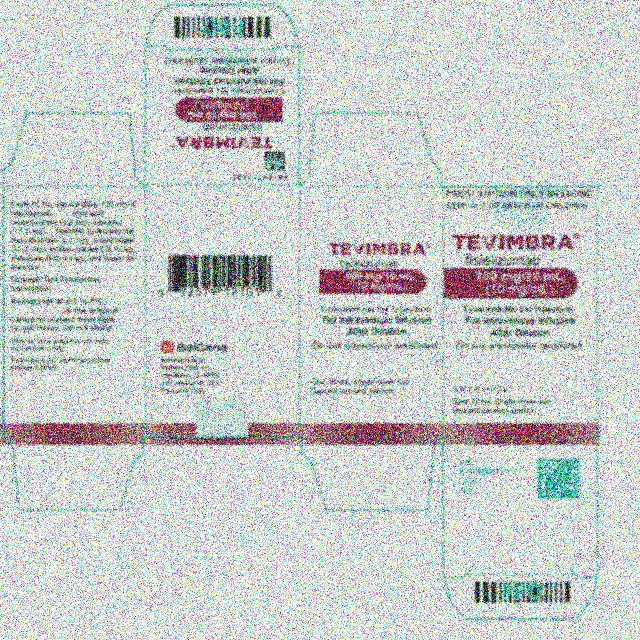Artwork: (0, 0, 640, 640)
Back_Panel: (146, 185, 300, 437)
Bottom_Part: (444, 437, 596, 578)
Extra_Areas: (2, 109, 144, 186), (300, 436, 443, 512), (4, 438, 145, 514), (302, 111, 443, 186), (146, 4, 300, 46)
Front_Panel: (444, 186, 598, 438)
Side_Panel: (299, 188, 444, 438), (4, 186, 145, 436)
Top_Panel: (146, 46, 299, 185)
